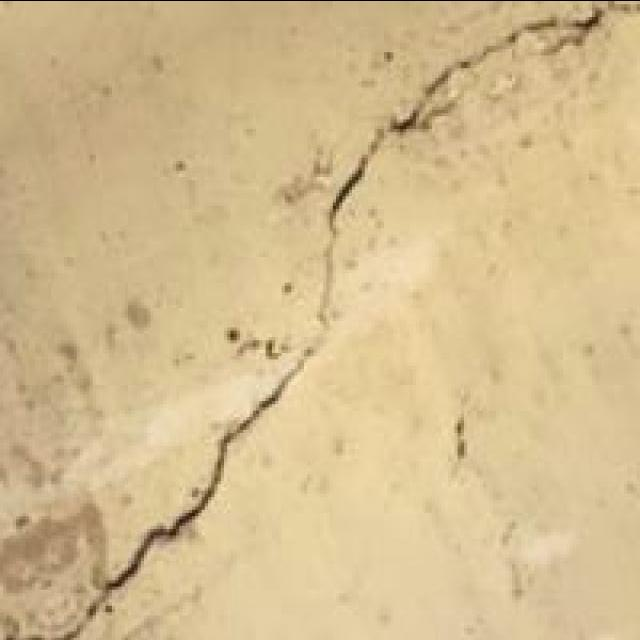SurfaceCrack: (60, 0, 640, 628)
